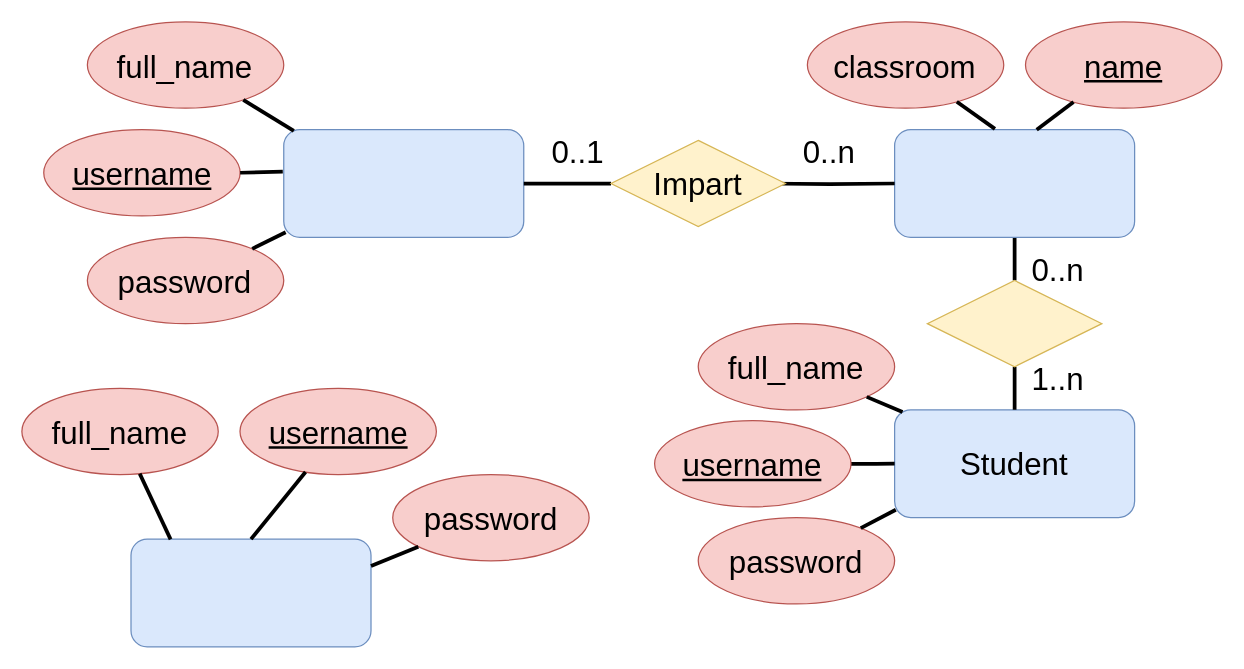
Image size: 1244x669. Some labels were removed from this diagram. Each missing label, with the box of its shape:
Admin: (130, 538, 371, 647)
Study: (926, 279, 1102, 367)
Subject: (893, 128, 1135, 237)
Teacher: (282, 128, 524, 237)
